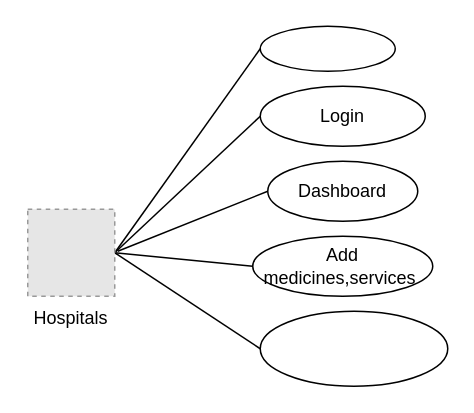
The diagram is 474 pixels wide and 413 high, and some of its shapes have lost their labels. Grey dashed boxes stand in for pictures. The shapes that lost their labels are listed below. From the top down, each one's centre as x and y in pixels, then its label:
At pixel 327 48: "Register".
At pixel 353 348: "Approves Appointments,orders".
